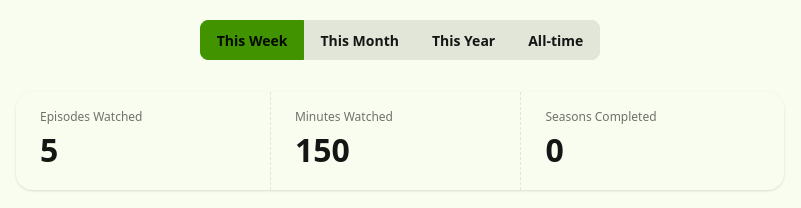
Test: StatsPage — stats display › shows all-time totals when All-time is selected
Check: the text "5" is shown, box [40,128,58,171]
Click the radio button named "All-time". click: (556, 40)
box: [511,20,600,60]
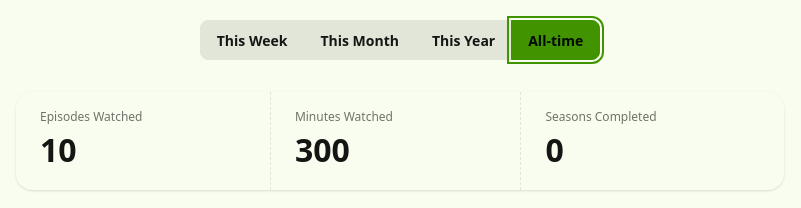
Check: the text "10" is shown, box [40,128,77,171]
Check: the text "300" is shown, box [295,128,350,171]
